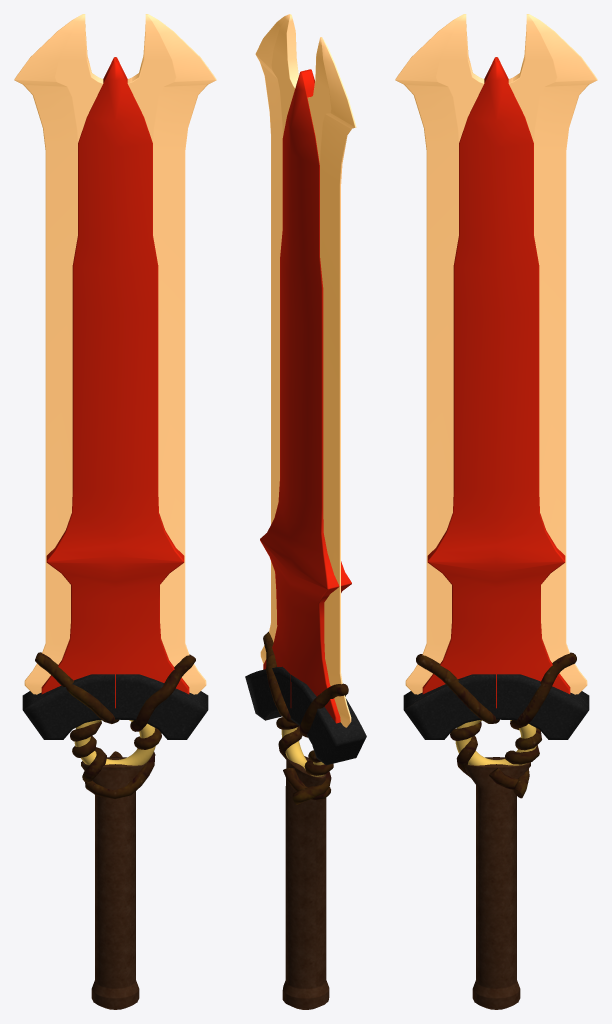
File: sword.glb
3 views of the same model, side by side, from view 1: azimuth 90°, elevation 25°; view 2: azimuth 210°, elevation 25°; view 3: azimuth 270°, elevation 25° (orthographic).
Visible parts, largest first — view 1: Plane.001_1, Plane_0, Cylinder_4, Plane.002_2, Vert_5, Torus_3; view 2: Plane.001_1, Plane_0, Cylinder_4, Plane.002_2, Vert_5, Torus_3; view 3: Plane.001_1, Plane_0, Cylinder_4, Plane.002_2, Vert_5, Torus_3.
Boxes of the visible parts, x1,y1,x2,y2 form: Plane.001_1: (41, 57, 189, 708); Plane_0: (14, 14, 216, 694); Cylinder_4: (81, 757, 144, 1009); Plane.002_2: (22, 674, 208, 739); Vert_5: (35, 652, 195, 798); Torus_3: (74, 720, 155, 765); Plane.001_1: (260, 69, 351, 723); Plane_0: (255, 14, 356, 727); Cylinder_4: (282, 756, 329, 1009); Plane.002_2: (245, 666, 366, 765); Vert_5: (263, 631, 348, 804); Torus_3: (281, 727, 324, 776); Plane.001_1: (422, 57, 570, 708); Plane_0: (395, 14, 597, 694); Cylinder_4: (465, 757, 530, 1009); Plane.002_2: (403, 674, 589, 739); Vert_5: (416, 652, 576, 798); Torus_3: (455, 720, 536, 765).
Size of the model in its own units: 0.6991 by 14.16 by 2.63.
1 material, 1 textured.
